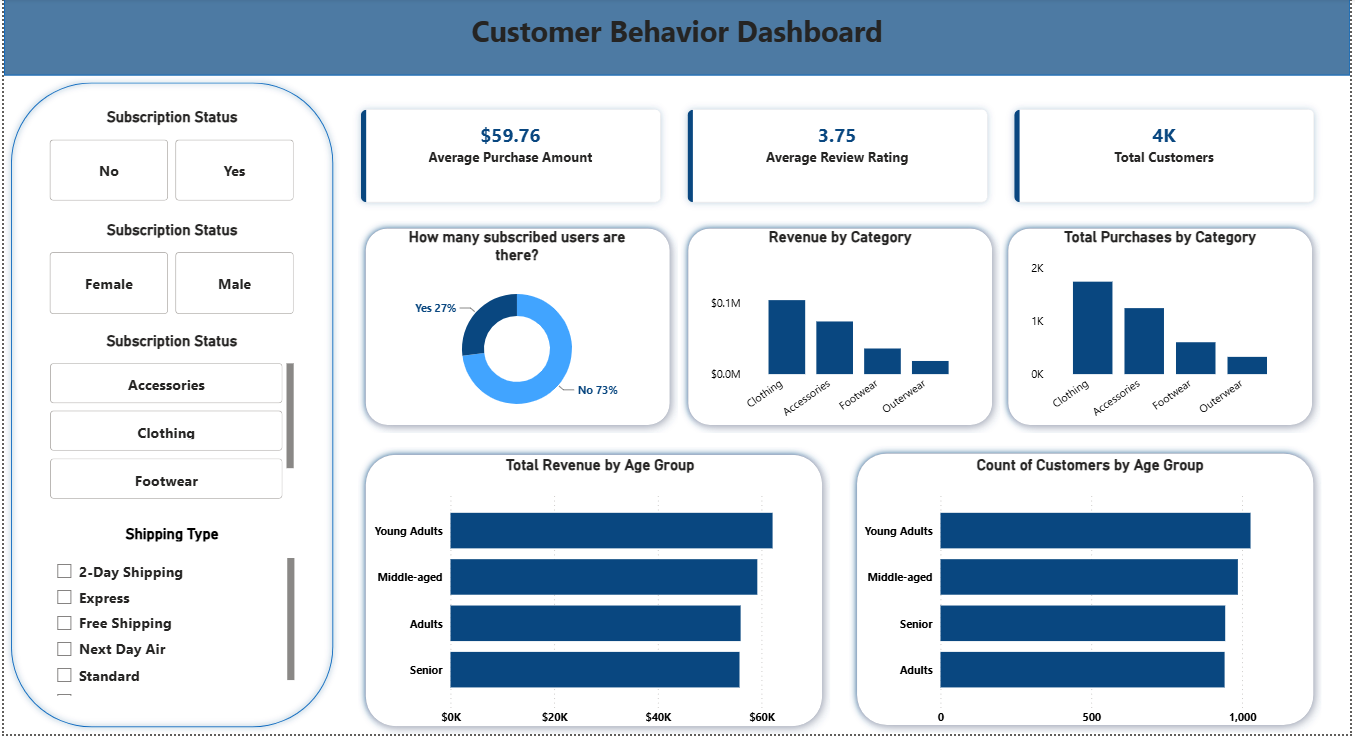

The dashboard page shown, as its layout file describes it:
{"tool":"powerbi","page":{"name":"Page 1","canvas":[1500,820],"ordinal":0},"visuals":[{"type":"shape","box":[940.8,498.9,526.4,320.3],"z":0},{"type":"shape","box":[394.1,500,526.4,320.3],"z":1000},{"type":"cardVisual","fields":{"Data":["public customer.avg_purchase_amount","public customer.avg_review_rating","public customer.total_customers"]},"box":[359.3,86.3,1140.6,179.7],"z":2000},{"type":"shape","box":[0,0,1499.9,86.3],"z":3000},{"type":"textbox","box":[0,9.7,1499.9,65.5],"z":4000},{"type":"shape","box":[394.1,247.9,356.5,236.8],"z":5000},{"type":"donutChart","title":"How many subscribed users are there?","fields":{"Category":["public customer.subscription_status"],"Y":["CountNonNull(public customer.subscription_status)"]},"box":[422,256.3,299.4,220],"z":6000},{"type":"shape","box":[753.4,247.9,356.5,236.8],"z":7000},{"type":"shape","box":[1110,247.9,356.5,236.8],"z":8000},{"type":"clusteredColumnChart","title":"Revenue by Category","fields":{"Y":["Sum(public customer.purchase_amount)"],"Category":["public customer.category"]},"box":[782.7,256.3,298,229.8],"z":9000},{"type":"clusteredColumnChart","title":"Total Purchases by Category","fields":{"Category":["public customer.category"],"Y":["CountNonNull(public customer.customer_id)"]},"box":[1139.2,256.3,298,229.8],"z":10000},{"type":"shape","box":[0,86.3,374.6,733.9],"z":11000},{"type":"advancedSlicerVisual","title":"Subscription Status","fields":{"Values":["public customer.subscription_status"]},"box":[46,122.6,282.7,108.6],"z":12000},{"type":"advancedSlicerVisual","title":"Subscription Status","fields":{"Values":["public customer.gender"]},"box":[46,247.9,282.7,110],"z":13000},{"type":"advancedSlicerVisual","title":"Subscription Status","fields":{"Values":["public customer.category"]},"box":[46,371.8,282.1,194],"z":14000},{"type":"slicer","title":"Shipping Type","fields":{"Values":["public customer.shipping_type"]},"box":[46,586.3,282.7,196.4],"z":15000},{"type":"barChart","title":"Total Revenue by Age Group","fields":{"Category":["public customer.age_group"],"Y":["Sum(public customer.purchase_amount)"]},"box":[406,510.3,515.2,309.8],"z":16000},{"type":"barChart","title":"Count of Customers by Age Group","fields":{"Y":["CountNonNull(public customer.customer_id)"],"Category":["public customer.age_group"]},"box":[952.2,510.3,515.2,309.8],"z":17000}]}

Visuals, with their boxes in screenshot pixels (x1, y1, x2, y2), scaled from the page's 1500x820 canvas onto the 1355x742 screenshot:
shape: <region>850, 451, 1325, 741</region>
shape: <region>356, 452, 832, 741</region>
cardVisual - public customer.avg_purchase_amount x public customer.avg_review_rating: <region>325, 78, 1354, 241</region>
shape: <region>0, 0, 1354, 78</region>
textbox: <region>0, 9, 1354, 68</region>
shape: <region>356, 224, 678, 439</region>
"How many subscribed users are there?" donutChart: <region>381, 232, 652, 431</region>
shape: <region>681, 224, 1003, 439</region>
shape: <region>1003, 224, 1325, 439</region>
"Revenue by Category" clusteredColumnChart: <region>707, 232, 976, 440</region>
"Total Purchases by Category" clusteredColumnChart: <region>1029, 232, 1298, 440</region>
shape: <region>0, 78, 338, 741</region>
"Subscription Status" advancedSlicerVisual: <region>42, 111, 297, 209</region>
"Subscription Status" advancedSlicerVisual: <region>42, 224, 297, 324</region>
"Subscription Status" advancedSlicerVisual: <region>42, 336, 296, 512</region>
"Shipping Type" slicer: <region>42, 531, 297, 708</region>
"Total Revenue by Age Group" barChart: <region>367, 462, 832, 741</region>
"Count of Customers by Age Group" barChart: <region>860, 462, 1326, 741</region>
